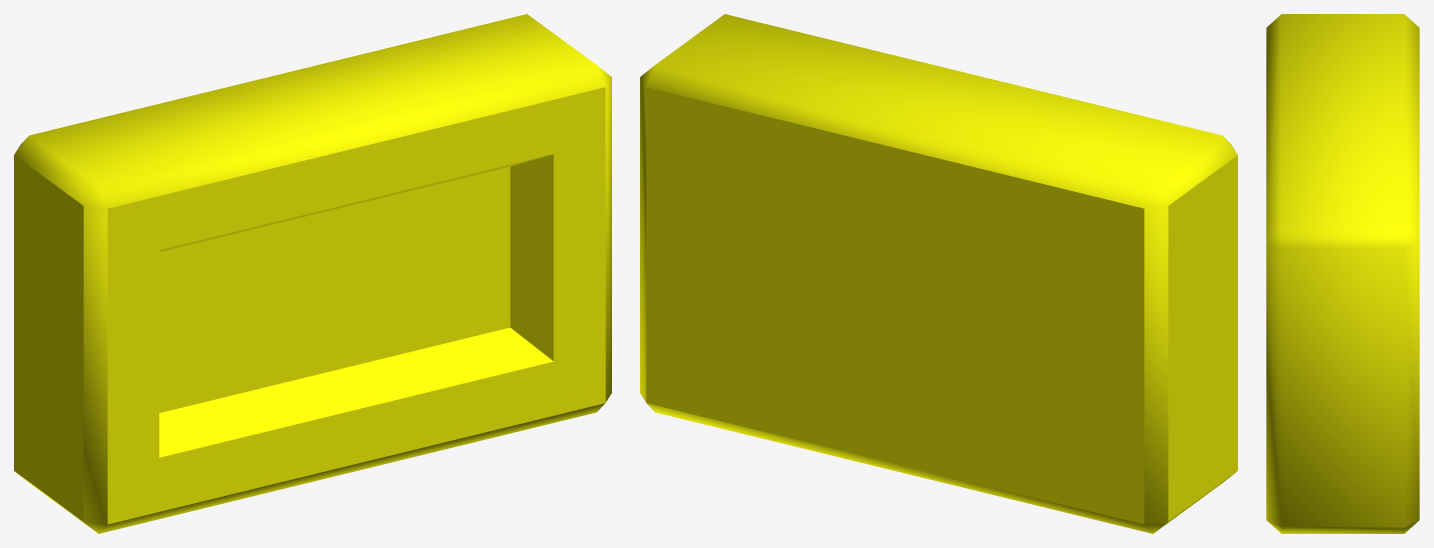
Rendered from kaykit-pictureframe-small-b.glb.
3 views of the same model, side by side, from view 1: azimuth 30°, elevation 25°; view 2: azimuth 150°, elevation 25°; view 3: azimuth 270°, elevation 25° (orthographic). The views are drawn at different scales.
Visible parts, largest first — view 1: pictureframe_small_B; view 2: pictureframe_small_B; view 3: pictureframe_small_B.
Part boxes in pixels (x1,y1,x2,y2): pictureframe_small_B: [14, 14, 611, 533]; pictureframe_small_B: [640, 14, 1237, 533]; pictureframe_small_B: [1266, 14, 1419, 533].
Size of the model in its own units: 0.7 by 0.44 by 0.2.
